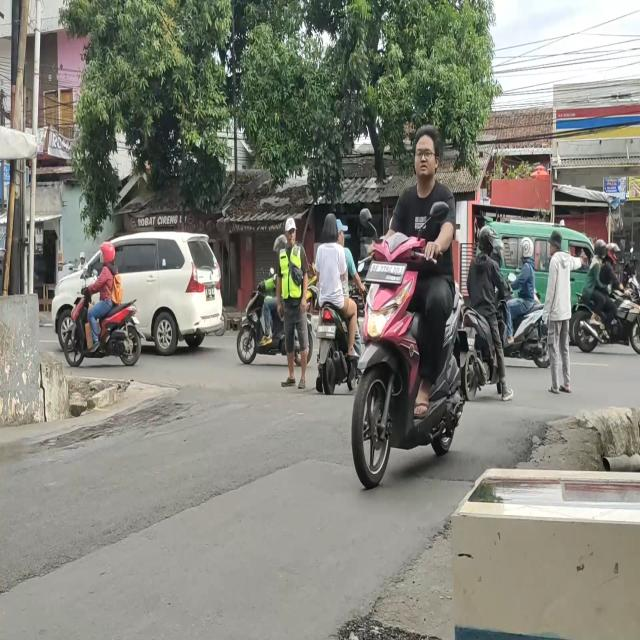helmet: (480, 226, 494, 254), (519, 235, 533, 260), (101, 241, 114, 262)
no-helmet: (413, 129, 437, 177), (322, 215, 336, 242), (336, 221, 349, 244)
